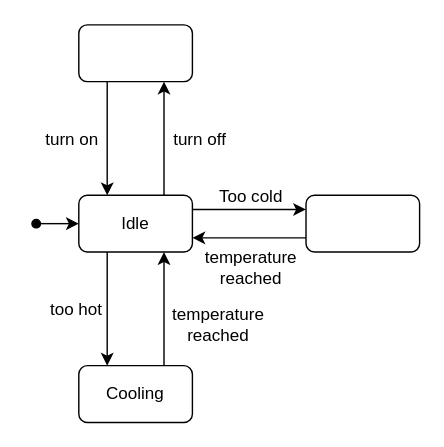
The diagram is 444 pixels wide and 447 high, and some of its shapes have lost their labels. Here are the shapes that lost their labels. From the top down, the box of each, then its label:
(77, 23, 192, 82): Off
(305, 194, 420, 252): Heating
